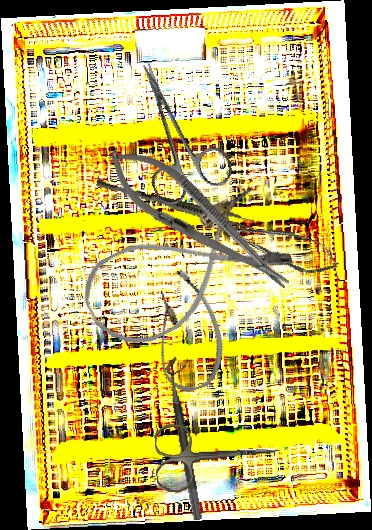Cannula: (71, 182, 297, 361), (135, 264, 235, 398)
Fixation Ring: (163, 355, 217, 521)
Iris Scissors: (110, 47, 238, 210), (153, 418, 283, 493)
Micro Scissor: (198, 200, 344, 284)
Needle Holder: (94, 132, 303, 308)
Tissue Forceps: (94, 177, 257, 232)
